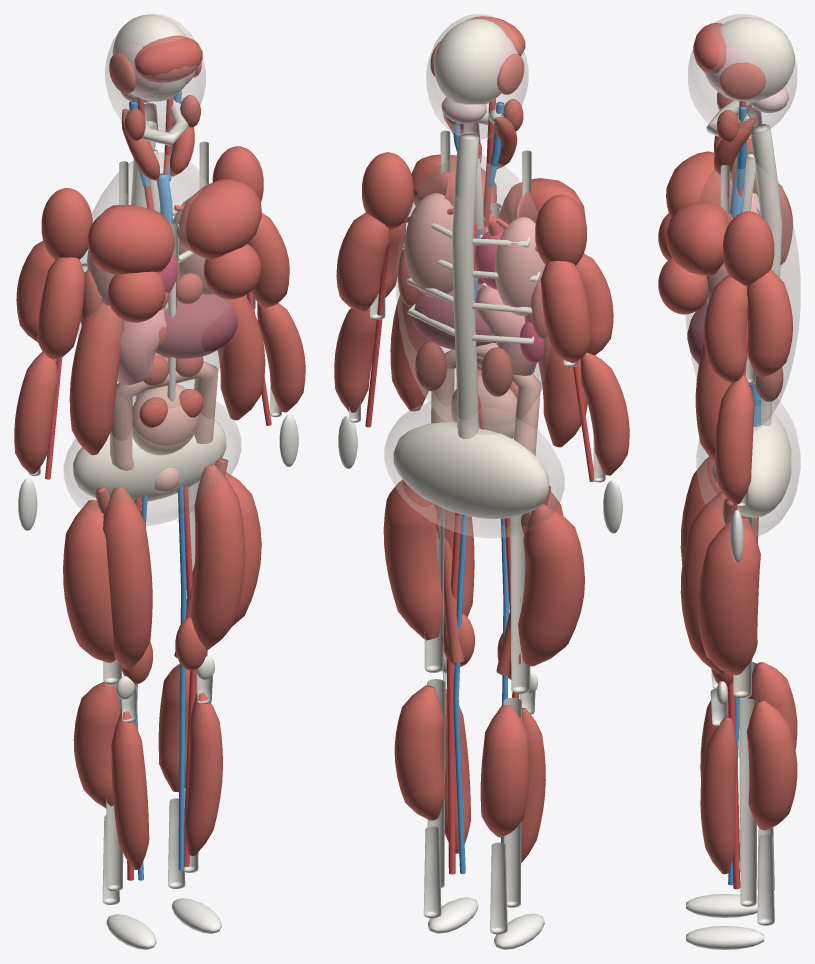
File: female-atlas.glb
3 renders of one model, left to right at view 1: azimuth 30°, elevation 25°; view 2: azimuth 150°, elevation 25°; view 3: azimuth 270°, elevation 25°, orthographic.
Parts seen in each view (by area): view 1: skin_torso, skin_pelvis, skin_head, muscle_rectus_femoris_r, muscle_rectus_femoris_l, muscle_vastus_lateralis_l, muscle_external_oblique_l, bone_pelvis, muscle_pectoralis_major_r, muscle_pectoralis_major_l, muscle_tibialis_anterior_r, muscle_tibialis_anterior_l (+38 smaller); view 2: skin_torso, skin_pelvis, bone_pelvis, skin_head, muscle_vastus_lateralis_l, muscle_vastus_lateralis_r, bone_vertebral_column, muscle_gastrocnemius_r, muscle_gastrocnemius_l, bone_cranium, muscle_triceps_brachii_l, muscle_brachioradialis_l (+45 smaller); view 3: skin_head, muscle_vastus_lateralis_r, skin_torso, skin_pelvis, muscle_gastrocnemius_r, muscle_tibialis_anterior_r, muscle_brachioradialis_r, muscle_triceps_brachii_r, muscle_biceps_brachii_r, muscle_pectoralis_major_r, bone_cranium, bone_pelvis (+34 smaller).
Part boxes in pixels (x1=…): skin_torso: x1=77, y1=152, x2=230, y2=420; skin_pelvis: x1=64, y1=395, x2=240, y2=525; skin_head: x1=105, y1=14, x2=205, y2=135; muscle_rectus_femoris_r: x1=190, y1=464, x2=245, y2=650; muscle_rectus_femoris_l: x1=103, y1=487, x2=152, y2=669; muscle_vastus_lateralis_l: x1=63, y1=500, x2=115, y2=662; muscle_external_oblique_l: x1=69, y1=302, x2=124, y2=455; bone_pelvis: x1=73, y1=419, x2=226, y2=502; muscle_pectoralis_major_r: x1=176, y1=178, x2=261, y2=259; muscle_pectoralis_major_l: x1=87, y1=205, x2=174, y2=275; muscle_tibialis_anterior_r: x1=184, y1=692, x2=222, y2=855; muscle_tibialis_anterior_l: x1=111, y1=711, x2=149, y2=869; skin_torso: x1=396, y1=154, x2=550, y2=434; skin_pelvis: x1=384, y1=398, x2=564, y2=537; bone_pelvis: x1=393, y1=422, x2=549, y2=518; skin_head: x1=426, y1=14, x2=528, y2=139; muscle_vastus_lateralis_l: x1=518, y1=504, x2=584, y2=666; muscle_vastus_lateralis_r: x1=383, y1=479, x2=444, y2=640; bone_vertebral_column: x1=452, y1=133, x2=478, y2=438; muscle_gastrocnemius_r: x1=394, y1=685, x2=445, y2=820; muscle_gastrocnemius_l: x1=480, y1=705, x2=529, y2=837; bone_cranium: x1=434, y1=19, x2=506, y2=104; muscle_triceps_brachii_l: x1=540, y1=261, x2=591, y2=362; muscle_brachioradialis_l: x1=580, y1=352, x2=629, y2=475; skin_head: x1=688, y1=14, x2=796, y2=136; muscle_vastus_lateralis_r: x1=697, y1=516, x2=760, y2=675; skin_torso: x1=685, y1=151, x2=800, y2=431; skin_pelvis: x1=696, y1=399, x2=800, y2=536; muscle_gastrocnemius_r: x1=746, y1=700, x2=797, y2=830; muscle_tibialis_anterior_r: x1=700, y1=716, x2=737, y2=874; muscle_brachioradialis_r: x1=715, y1=376, x2=754, y2=504; muscle_triceps_brachii_r: x1=747, y1=270, x2=792, y2=377; muscle_biceps_brachii_r: x1=703, y1=275, x2=747, y2=383; muscle_pectoralis_major_r: x1=666, y1=201, x2=732, y2=275; bone_cranium: x1=704, y1=17, x2=794, y2=102; bone_pelvis: x1=737, y1=413, x2=791, y2=517.
Bounding box in the file's own units: 0.5706 × 1.73 × 0.2443.
